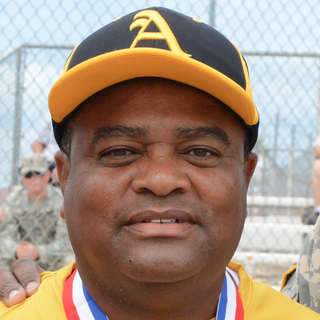eye: (95, 141, 145, 164), (177, 141, 224, 165)
